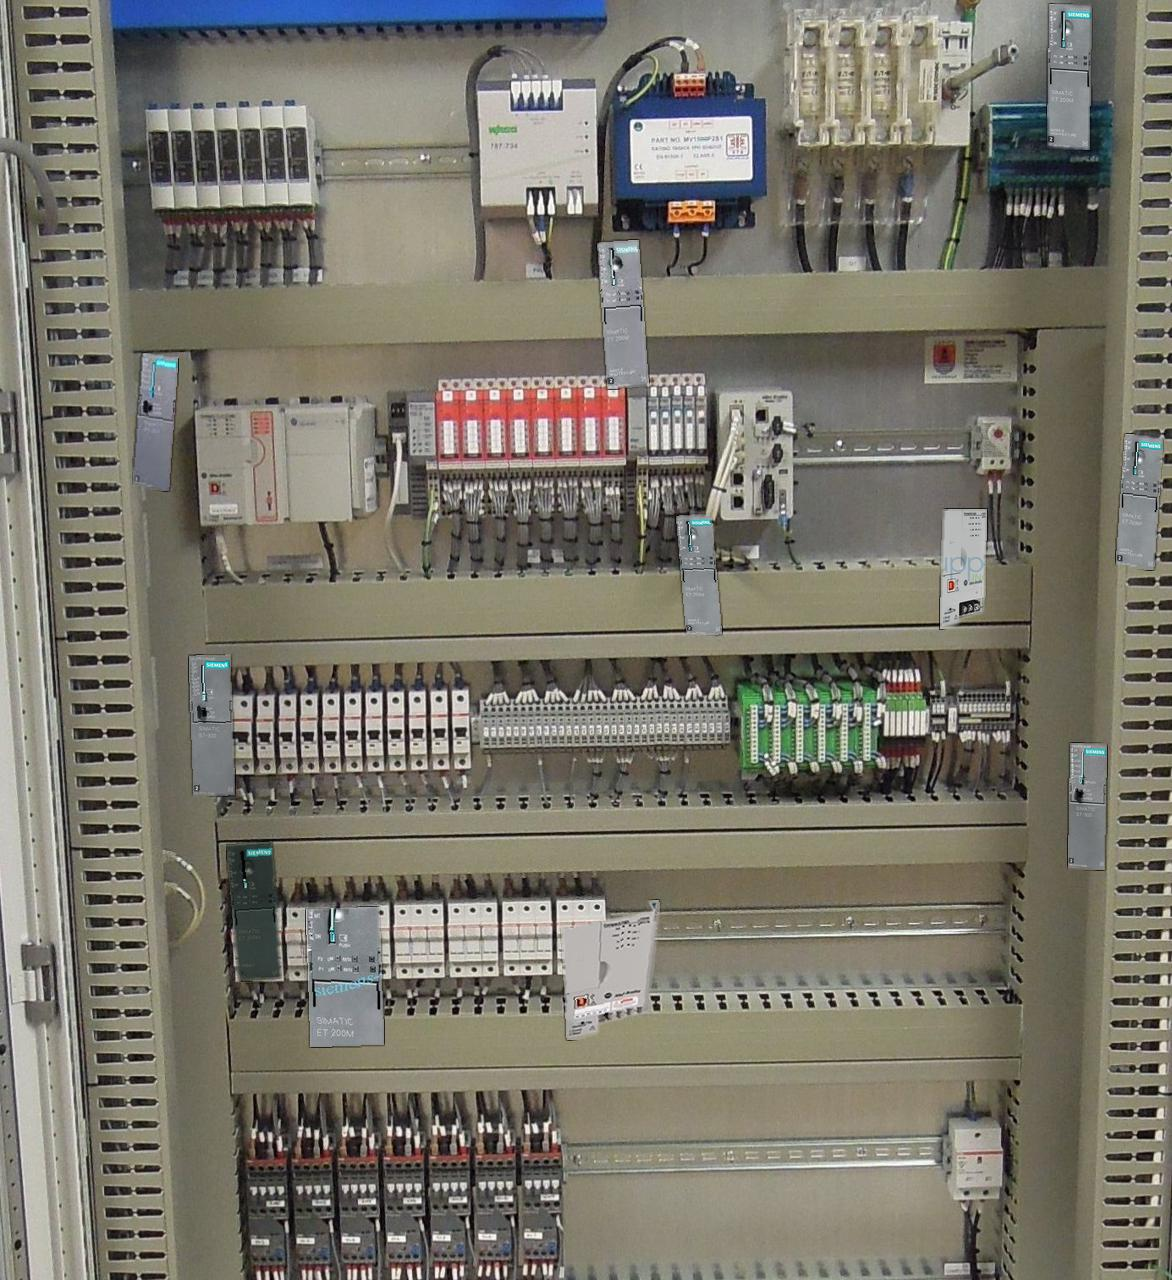AllenBradley: (562, 900, 659, 1039), (940, 510, 986, 628)
Siemens: (188, 654, 234, 795), (134, 353, 178, 489), (1068, 743, 1106, 869)
